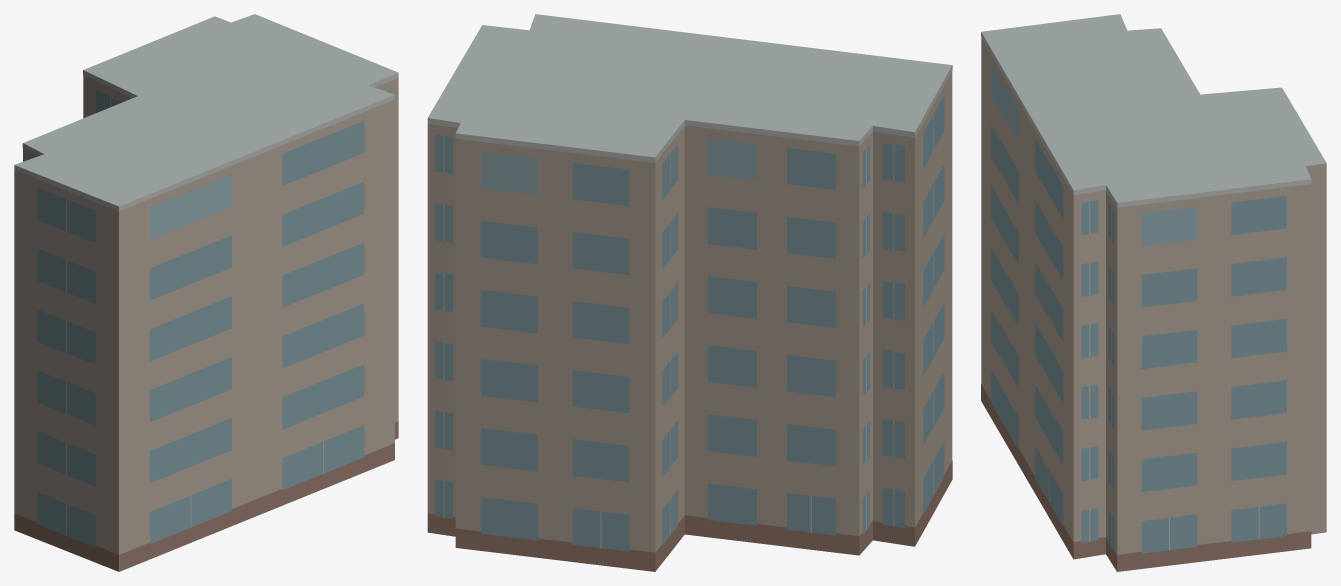
File: survey-upis-32927704.glb
The picture shows the model from 3 angles, left to right: view 1: azimuth 30°, elevation 25°; view 2: azimuth 150°, elevation 25°; view 3: azimuth 270°, elevation 25°; orthographic projection. The views are drawn at different scales.
Parts seen in each view (by area): view 1: survey-upis-32927704.tmp; view 2: survey-upis-32927704.tmp; view 3: survey-upis-32927704.tmp.
Boxes of the visible parts, x1,y1,x2,y2 form: survey-upis-32927704.tmp: (14, 14, 398, 571); survey-upis-32927704.tmp: (427, 14, 952, 571); survey-upis-32927704.tmp: (981, 14, 1326, 571).
Bounding box in the file's own units: 20.08 × 18.3 × 15.54.
